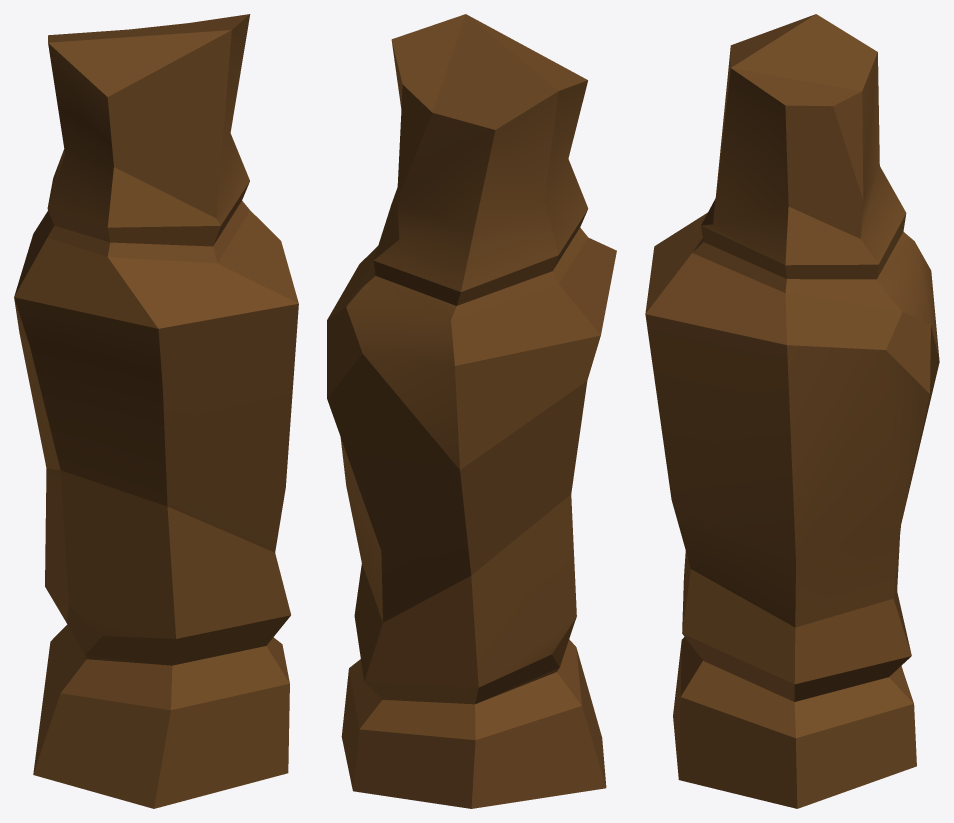
File: Rock6.FBX
3 views of the same model, side by side, from view 1: azimuth 30°, elevation 25°; view 2: azimuth 150°, elevation 25°; view 3: azimuth 270°, elevation 25° (orthographic). The views are drawn at different scales.
Parts seen in each view (by area): view 1: Rock6; view 2: Rock6; view 3: Rock6.
Part boxes in pixels (x1,y1,x2,y2): Rock6: [14, 14, 298, 808]; Rock6: [327, 14, 616, 808]; Rock6: [645, 14, 939, 808].
Size of the model in its own units: 325 by 845 by 322.
